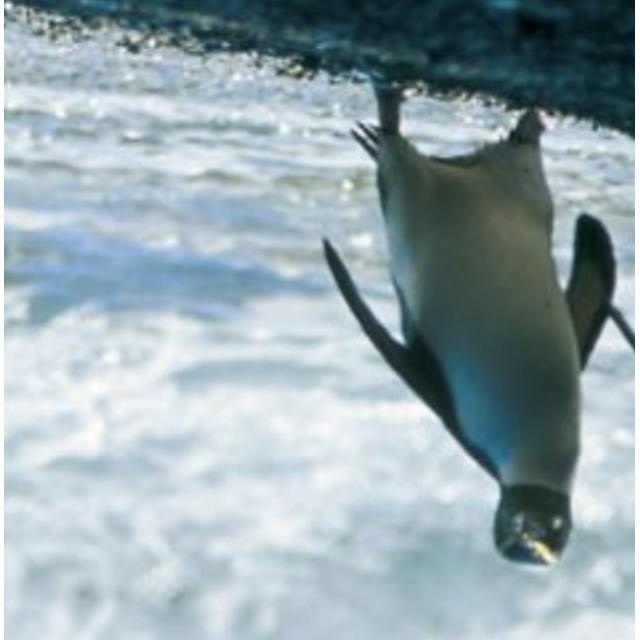penguin: (321, 79, 616, 569)
